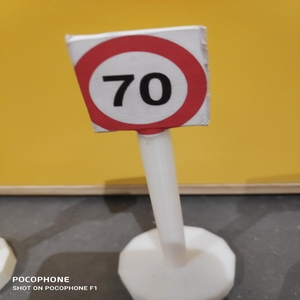70-bord: (71, 33, 209, 136)
